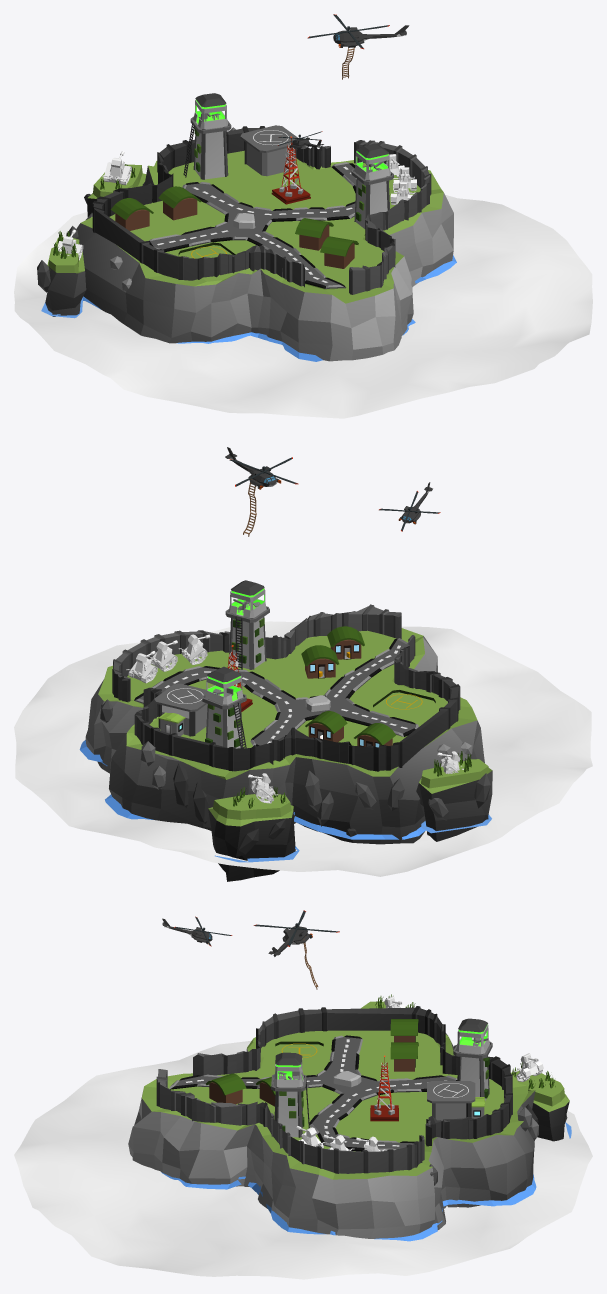
File: military-base.glb
The picture shows the model from 3 angles, top to bottom: view 1: azimuth 30°, elevation 25°; view 2: azimuth 150°, elevation 25°; view 3: azimuth 270°, elevation 25°; orthographic projection. The views are drawn at different scales.
Parts seen in each view (by area): view 1: World9-Miitary, Plane; view 2: World9-Miitary, Plane; view 3: World9-Miitary, Plane.
Part boxes in pixels (left/top/right/bottom): World9-Miitary: left=37, top=14, right=456, bottom=361; Plane: left=14, top=194, right=592, bottom=418; World9-Miitary: left=79, top=447, right=492, bottom=881; Plane: left=14, top=621, right=592, bottom=876; World9-Miitary: left=128, top=910, right=571, bottom=1241; Plane: left=14, top=1040, right=592, bottom=1279.
Bounding box in the file's own units: 23.85 × 12.94 × 23.99.
Materials: 4 (2 with a texture image).
